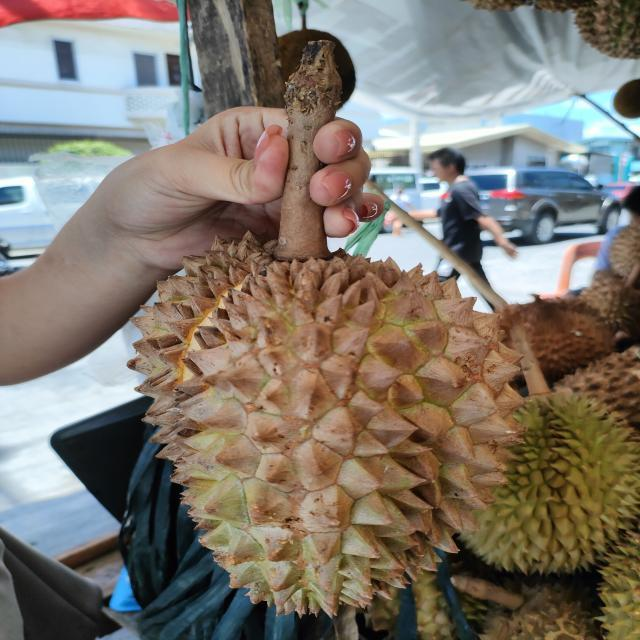mature: (126, 234, 530, 619)
